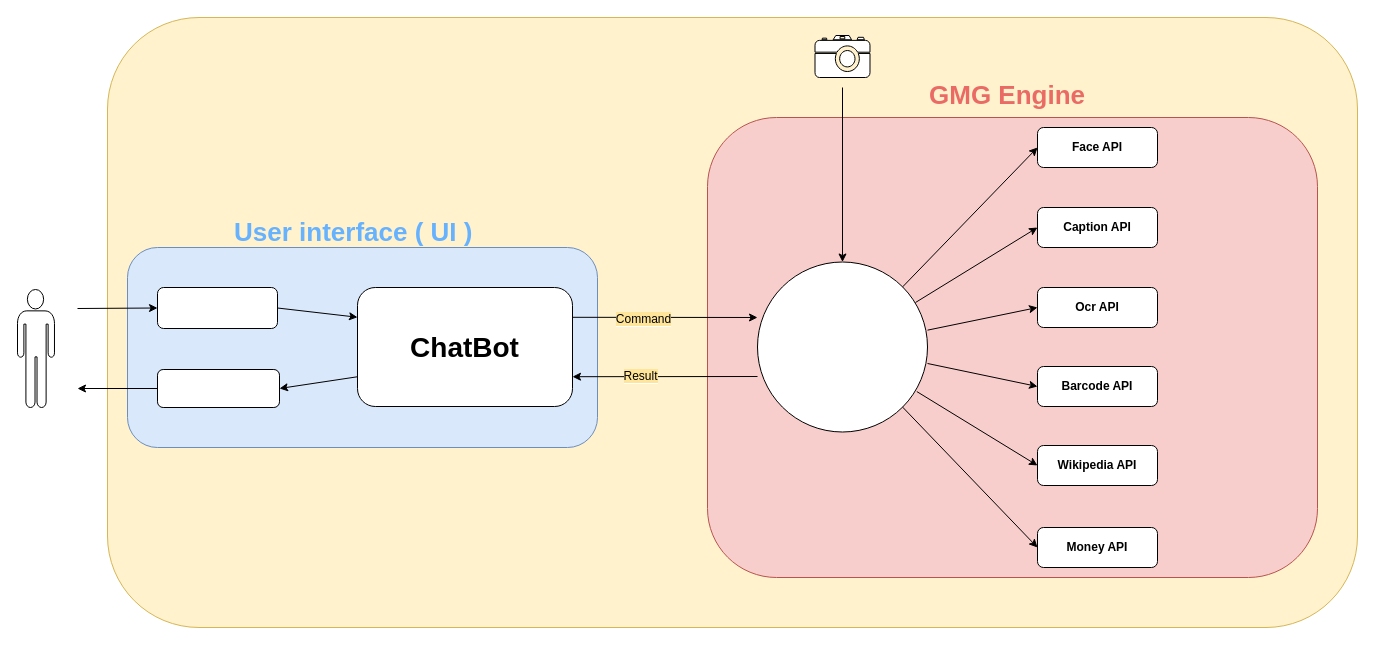
This 1375x645 diagram has some shape labels left out. Here are the shapes that lost their labels. From the top down, the centre of each, then its label:
point 217,307: Speech2Text
point 35,348: User
point 842,346: GMG Exec mode
point 218,388: Text2Speech
